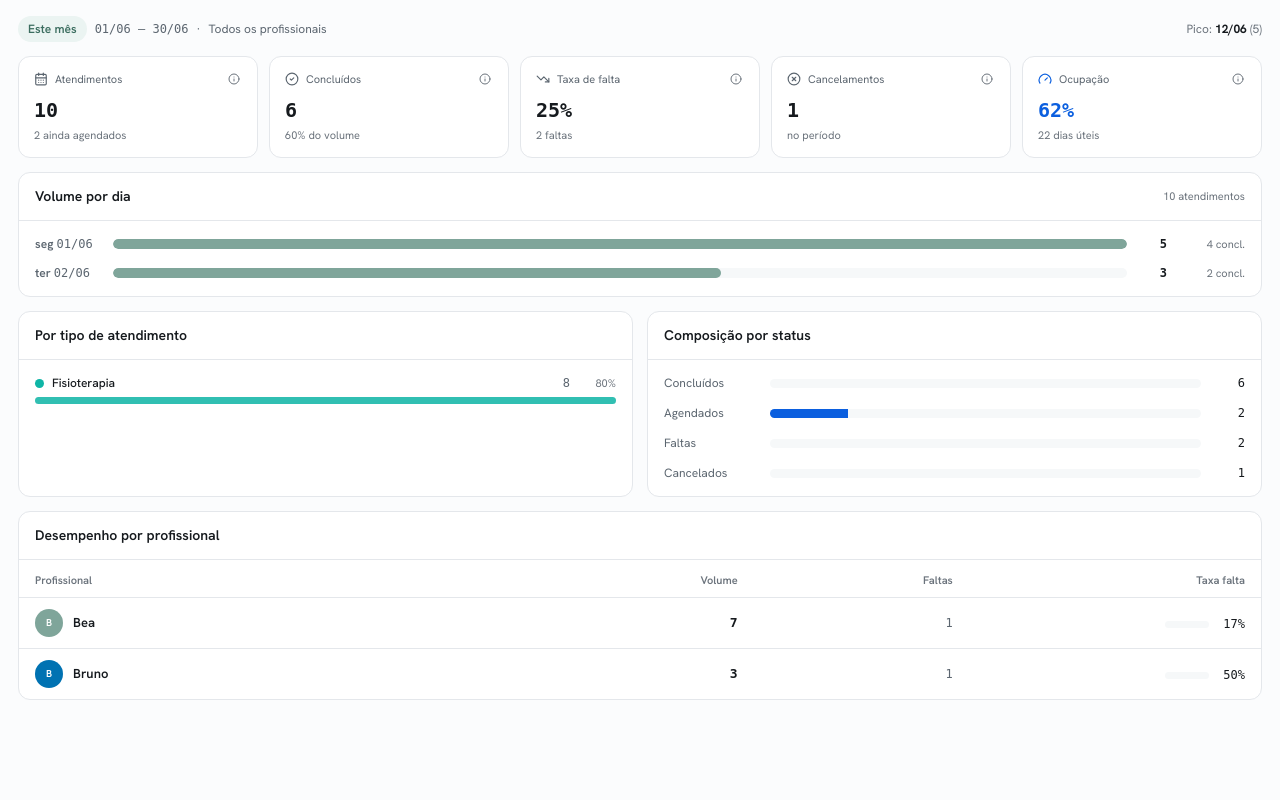
Test: Relatórios — render › a fórmula de cada KPI está na tela › ocupação diz que é minuto, e mostra o par da divisão
Step 1. Click the button named "como ocupação é calculad" → (1238, 79), box [1226,67,1250,91]
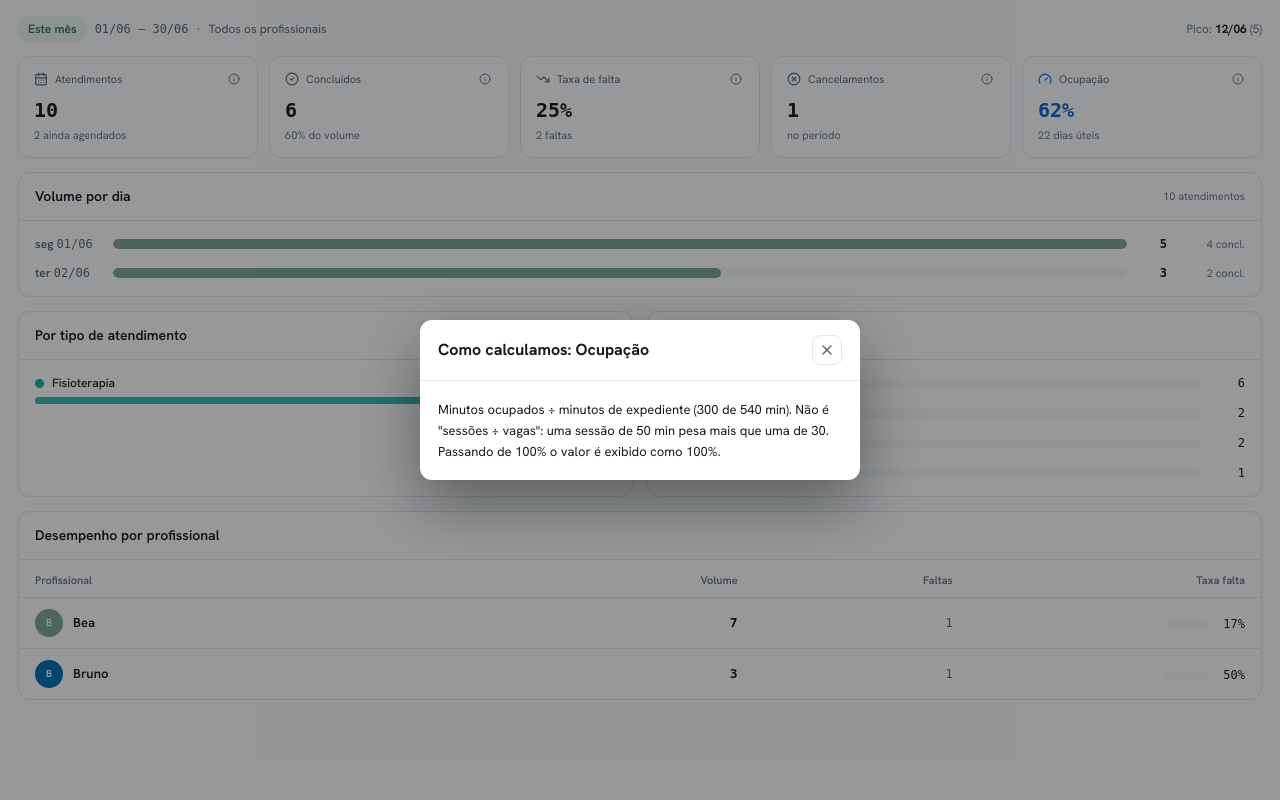
Check: the dialog shows "Minutos ocupados ÷ minutos de expediente", box [438,401,829,460]
Check: the dialog shows "300 de 540 min", box [438,401,829,460]
